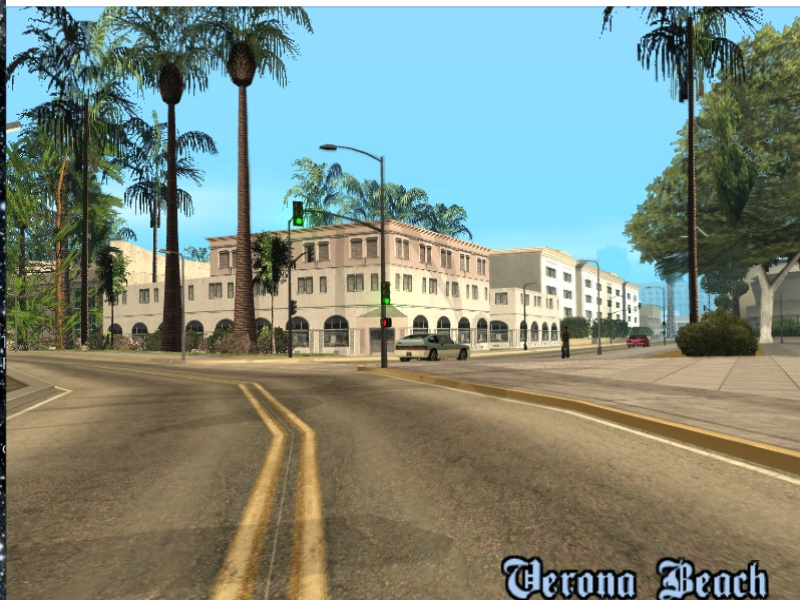person: (560, 327, 572, 362)
pole: (372, 157, 394, 366), (592, 264, 605, 358), (282, 264, 295, 358), (181, 256, 187, 362), (522, 285, 530, 352)
tree: (236, 91, 257, 349), (682, 86, 702, 331), (79, 156, 96, 348), (756, 277, 776, 345)
vehicle: (399, 333, 473, 363), (626, 334, 651, 350)
